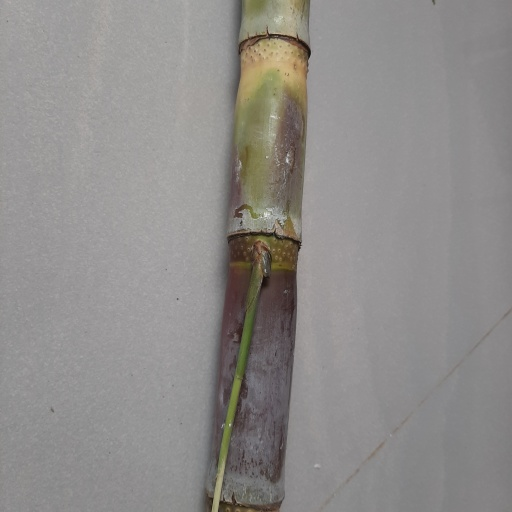Sprouted_Bud: (248, 242, 272, 294)
